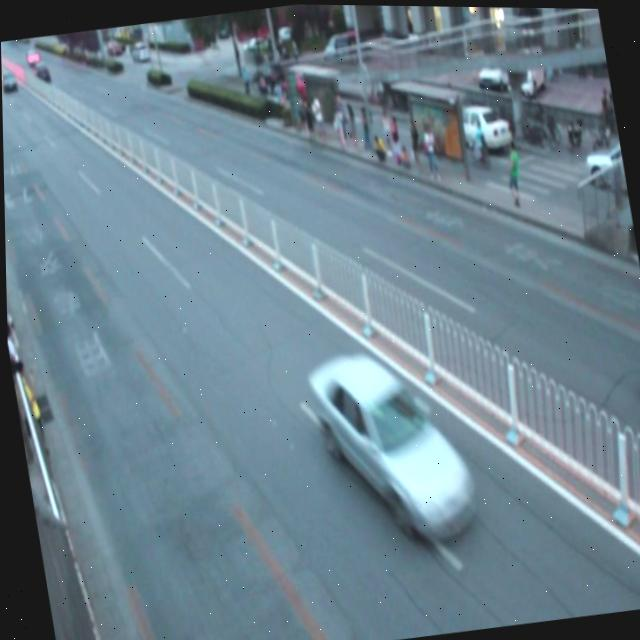car: (303, 339, 483, 558)
